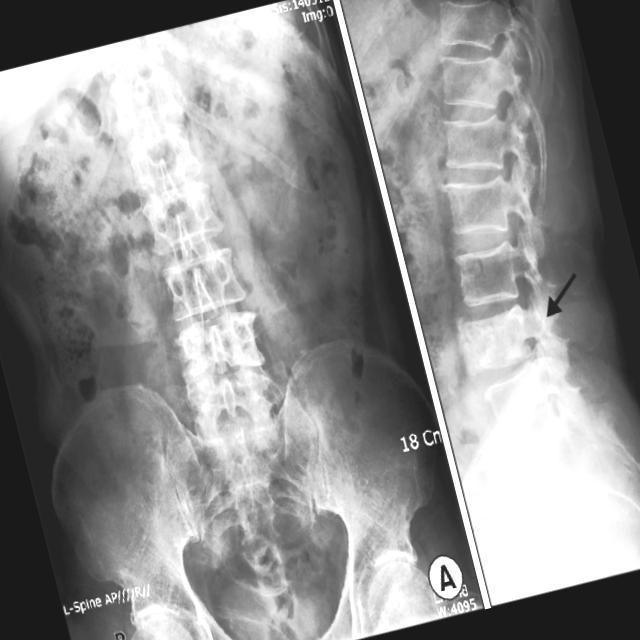Compression-Crush Fracutre: (456, 311, 543, 365)
